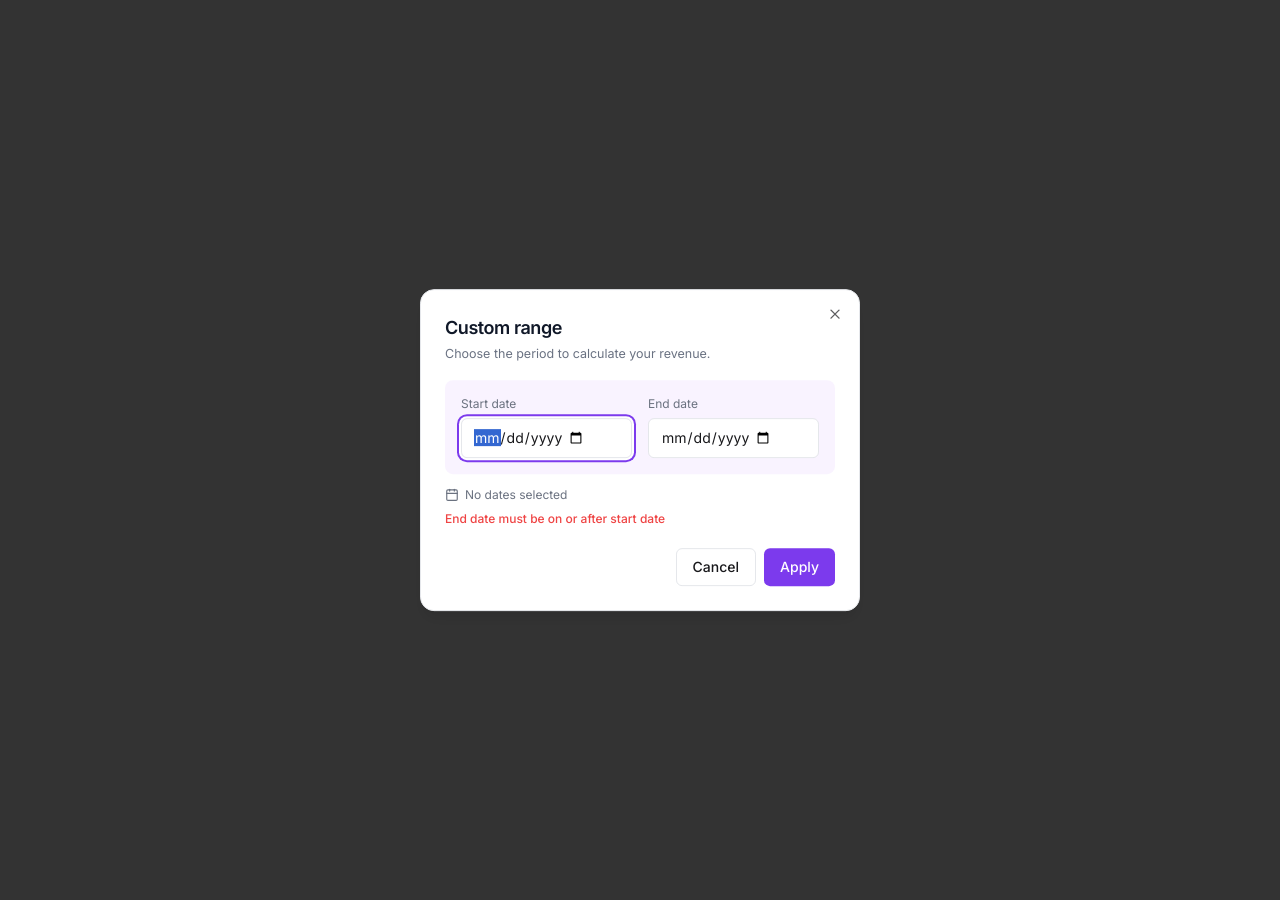
Test case: CustomRangeModal › surfaces the server range error in the error line and clears it on the next pick
The width and height of the screenshot is (1280, 900).
Expected: the message reads "End date must be on or after start date", [445,511,665,526]
Type "2024-01-20" into the date field labelled "End date".
click(734, 438); type("2024-01-20")  # box [648,418,819,458]
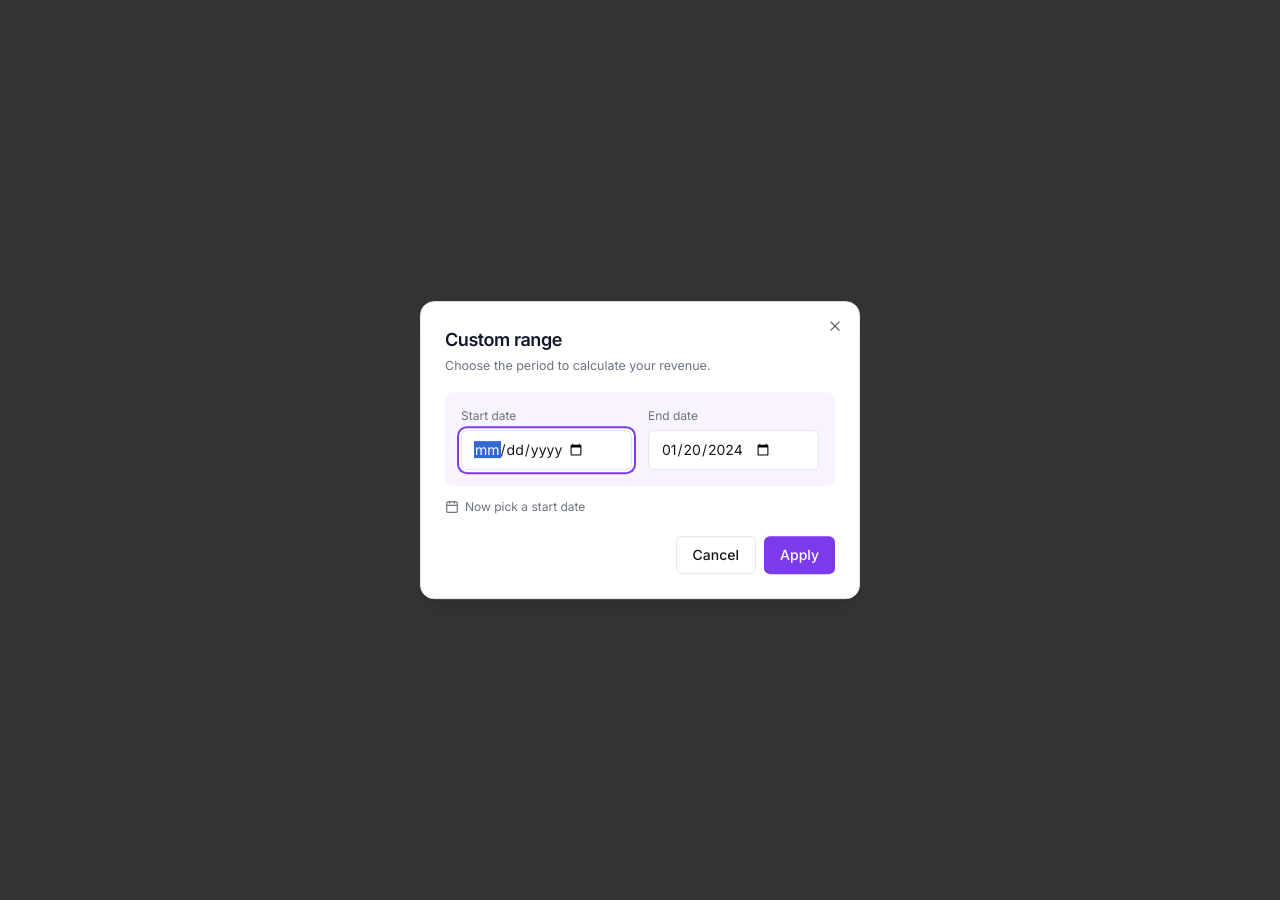
Expected: the message "End date must be on or after start date" is gone
